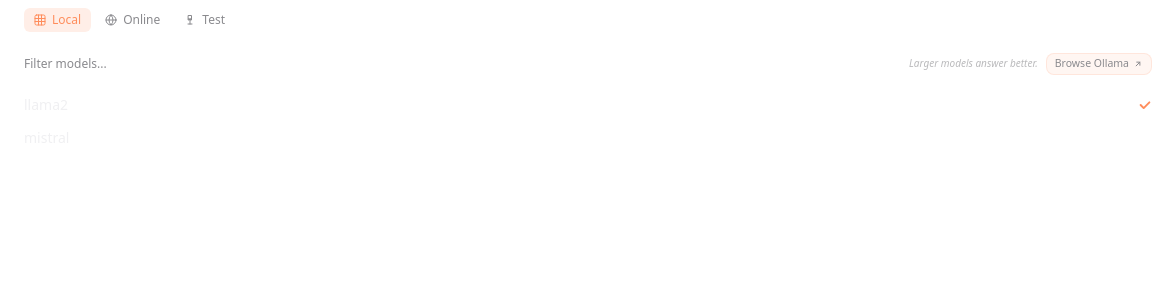
ProviderPickerPanel › online tab › shows error message when connection fails
The image size is (1176, 282).
Click the button "Online".
click(133, 20)  # box top-left (95, 8), bottom-right (170, 32)
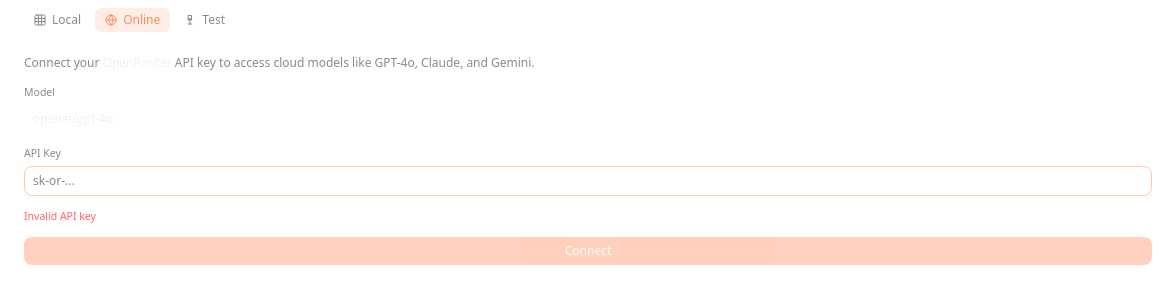
Expected: the text "Invalid API key" is shown, top-left (24, 209), bottom-right (96, 223)
